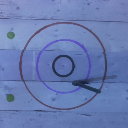Axe Tip: (79, 79, 91, 83)
